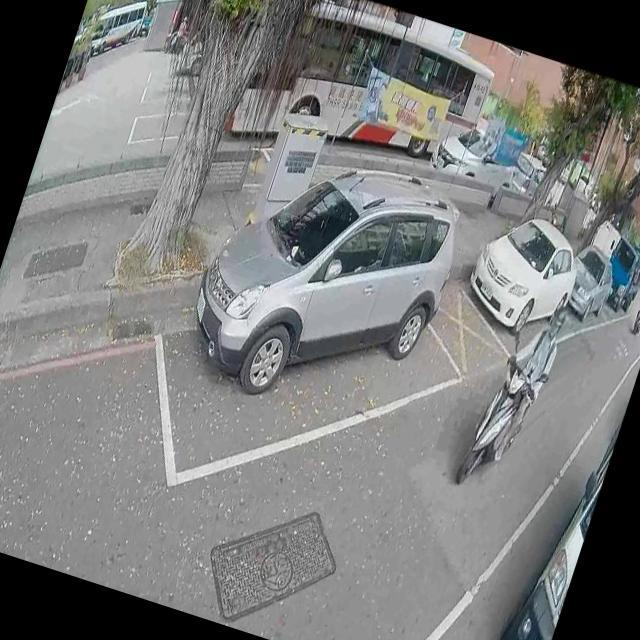person: (473, 292, 571, 472), (166, 9, 192, 56), (635, 288, 640, 322)
